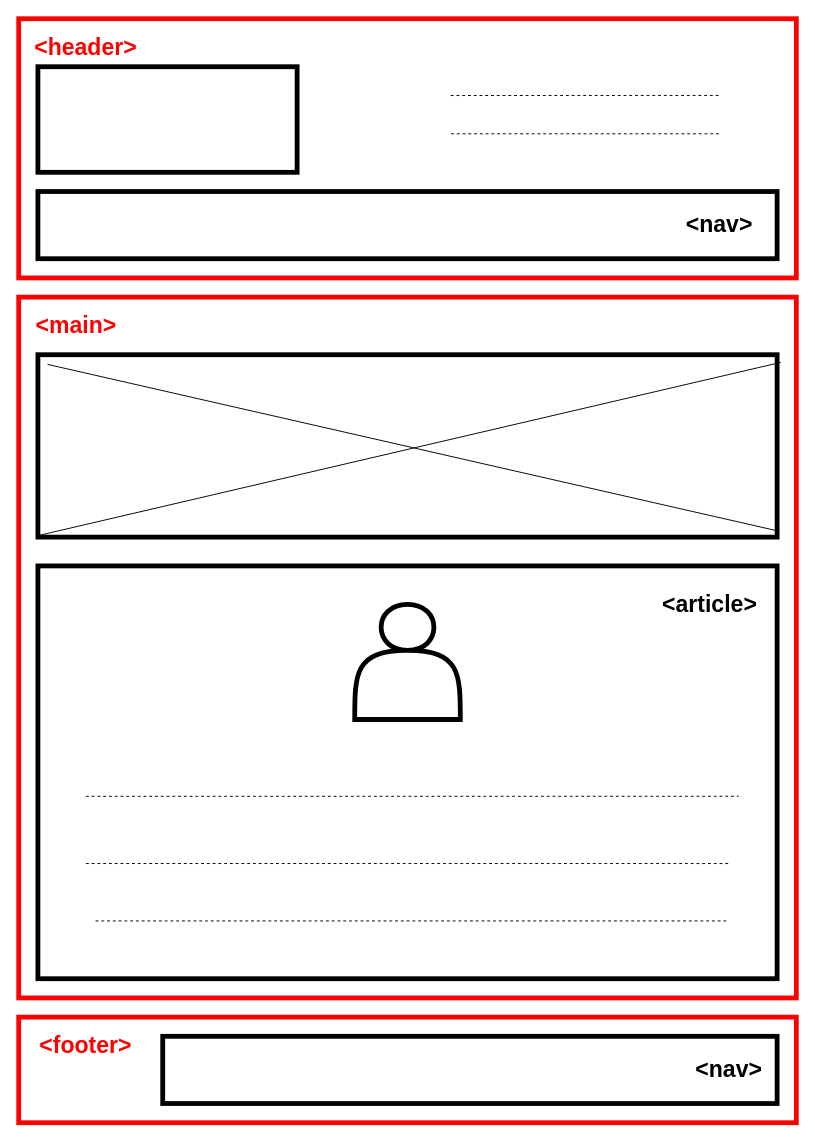
The diagram is 815 pixels wide and 1141 high, and some of its shapes have lost their labels. Here are the shapes that lost their labels. From the top down, the centre of each, then its label:
(167,119): LOGO
(407,445): <figure>
